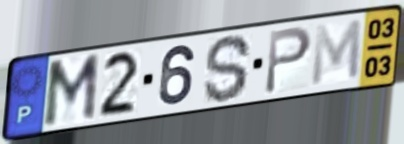2: (97, 48, 143, 120)
6: (157, 43, 198, 108)
M: (40, 51, 102, 131), (309, 17, 365, 90)
P: (262, 24, 315, 97)
S: (201, 32, 254, 105)
